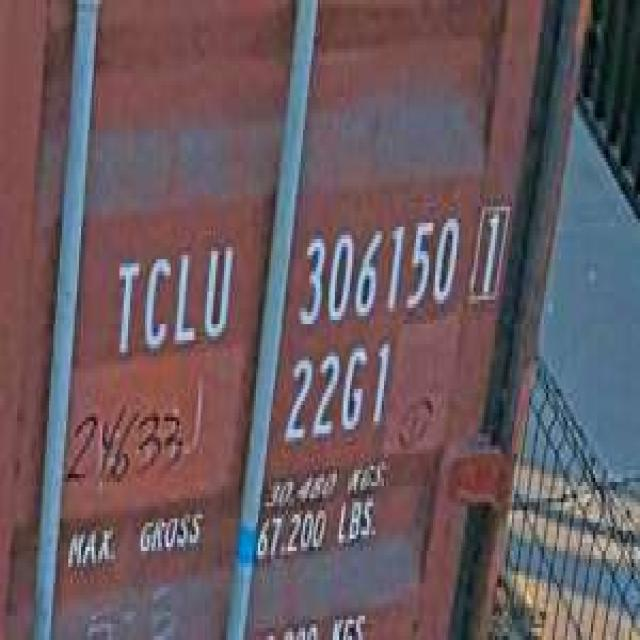dv: (469, 190, 510, 312)
owner: (109, 231, 237, 364)
serial: (296, 207, 458, 332)
size: (280, 336, 392, 450)
